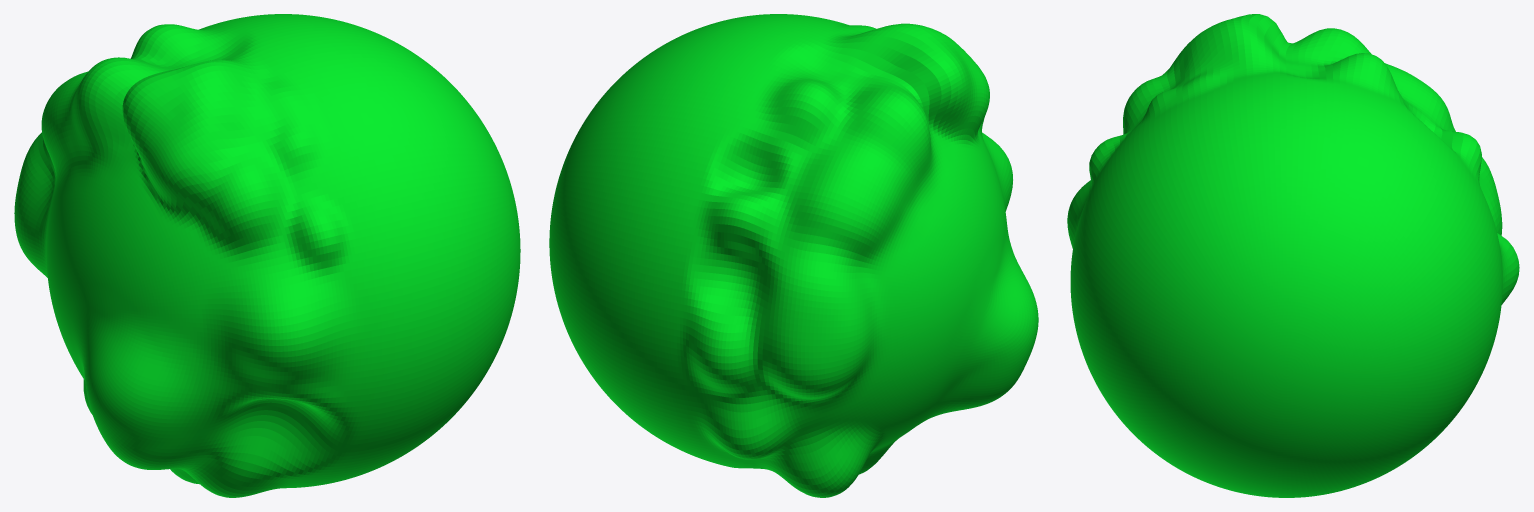
File: Planet.fbx
The picture shows the model from 3 angles, left to right: view 1: azimuth 30°, elevation 25°; view 2: azimuth 150°, elevation 25°; view 3: azimuth 270°, elevation 25°; orthographic projection. The views are drawn at different scales.
Parts seen in each view (by area): view 1: Planet; view 2: Planet; view 3: Planet.
Part boxes in pixels (x1,y1,x2,y2): Planet: [14, 14, 520, 497]; Planet: [549, 14, 1038, 497]; Planet: [1067, 14, 1519, 497].
Bounding box in the file's own units: 20908 × 20765 × 20917.
